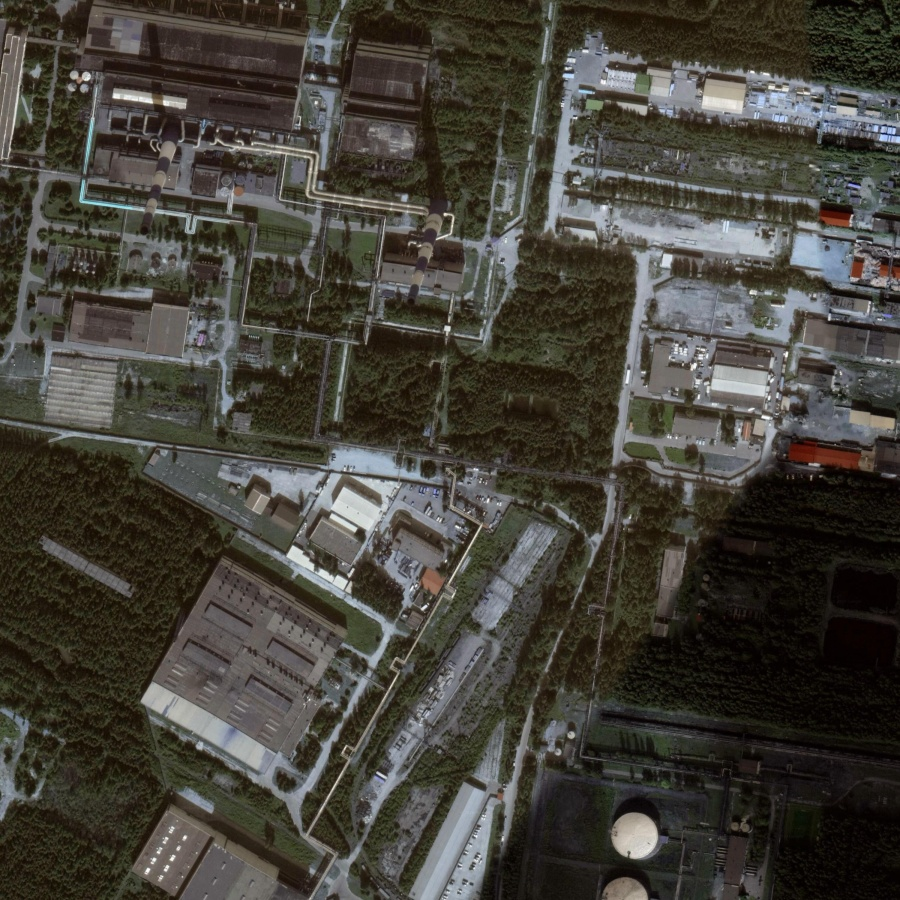PowerPlant: (93, 2, 451, 322)
